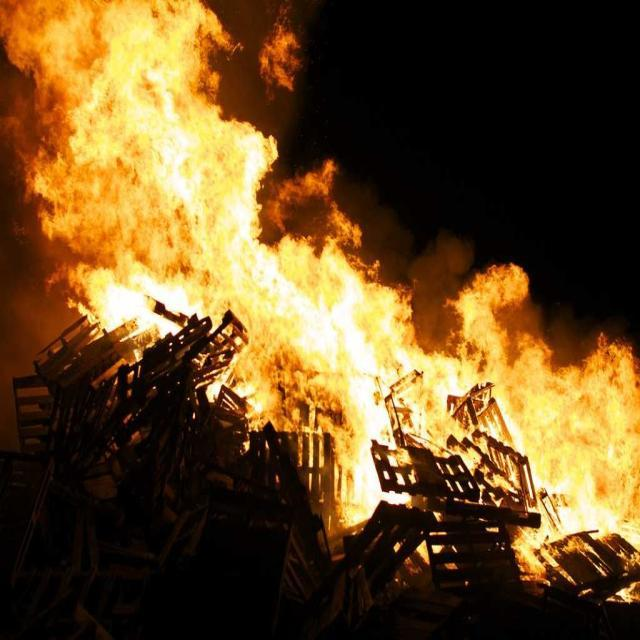Fire: (27, 2, 253, 296), (266, 258, 392, 427), (527, 370, 623, 510)
